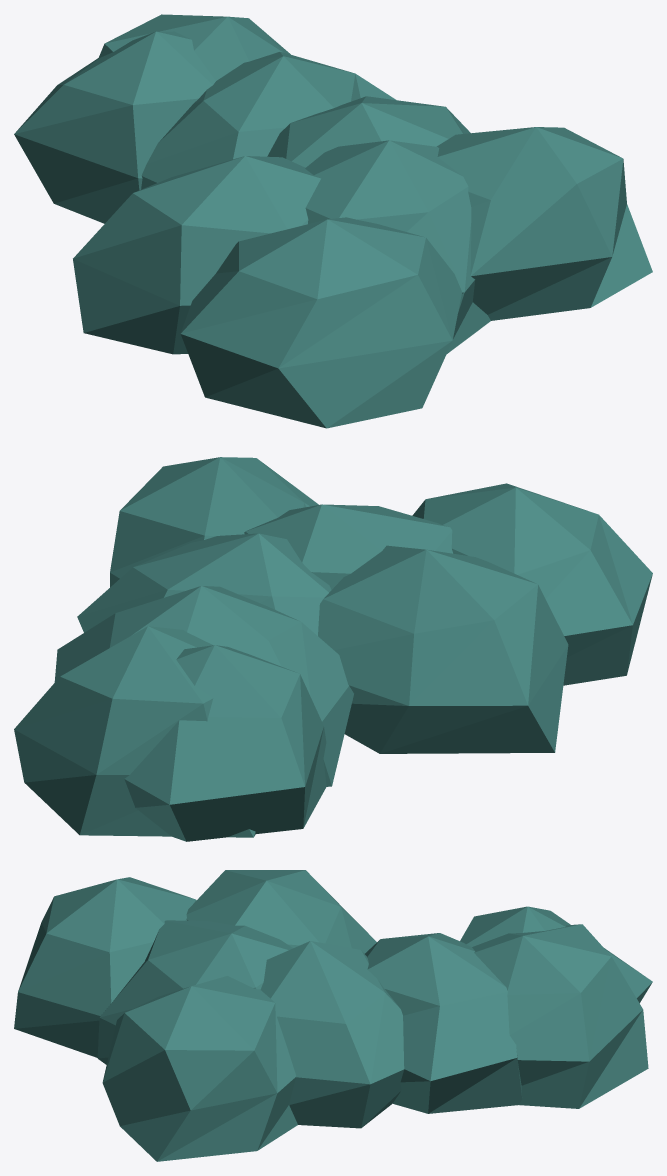
The model's file is food_agave.obj.
The picture shows the model from 3 angles, top to bottom: view 1: azimuth 30°, elevation 25°; view 2: azimuth 150°, elevation 25°; view 3: azimuth 270°, elevation 25°; orthographic projection. The views are drawn at different scales.
Visible parts, largest first — view 1: food_agave; view 2: food_agave; view 3: food_agave.
Part boxes in pixels (bbox=[...]): food_agave: bbox=[14, 14, 652, 428]; food_agave: bbox=[14, 457, 652, 841]; food_agave: bbox=[14, 870, 652, 1161].
Bounding box in the file's own units: 0.299 × 0.09 × 0.3876.
